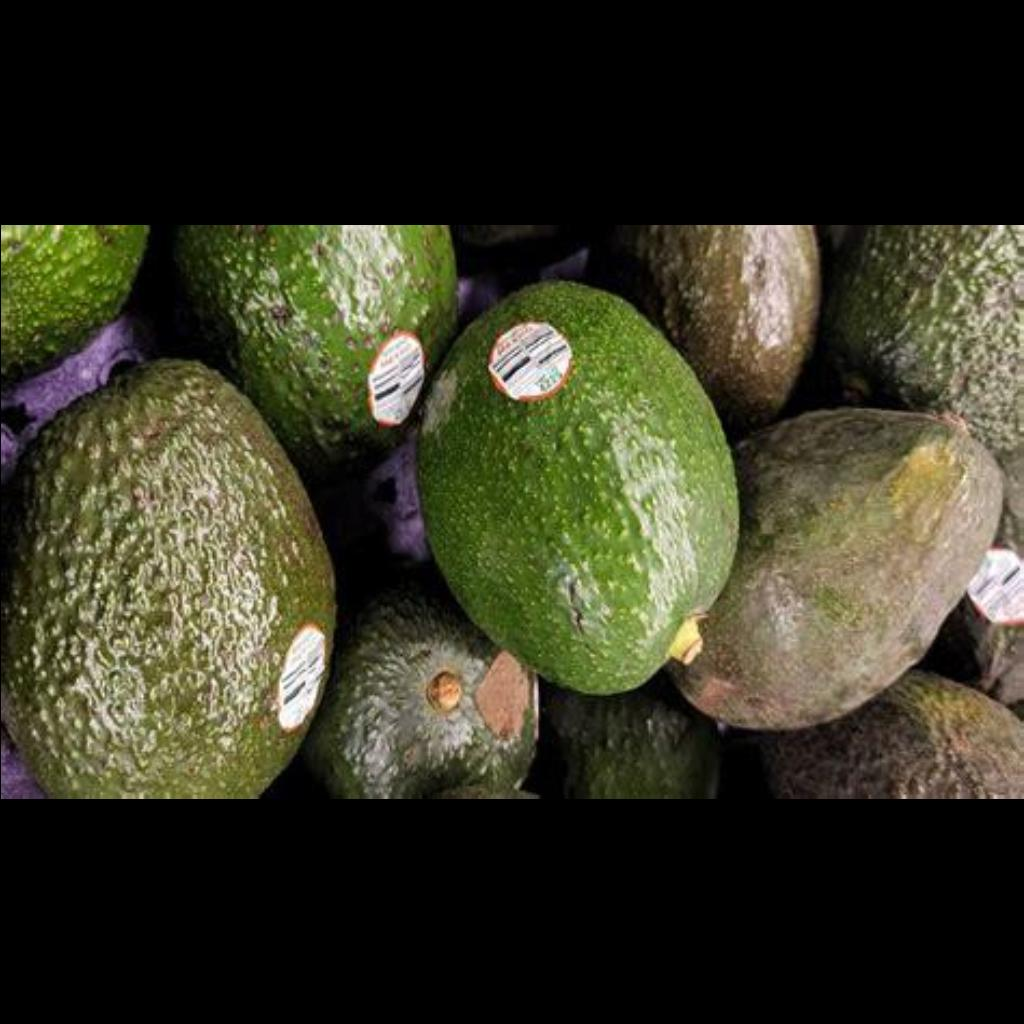antracnosis_fruto: (740, 388, 1023, 796), (35, 385, 320, 774), (679, 228, 1010, 390)
